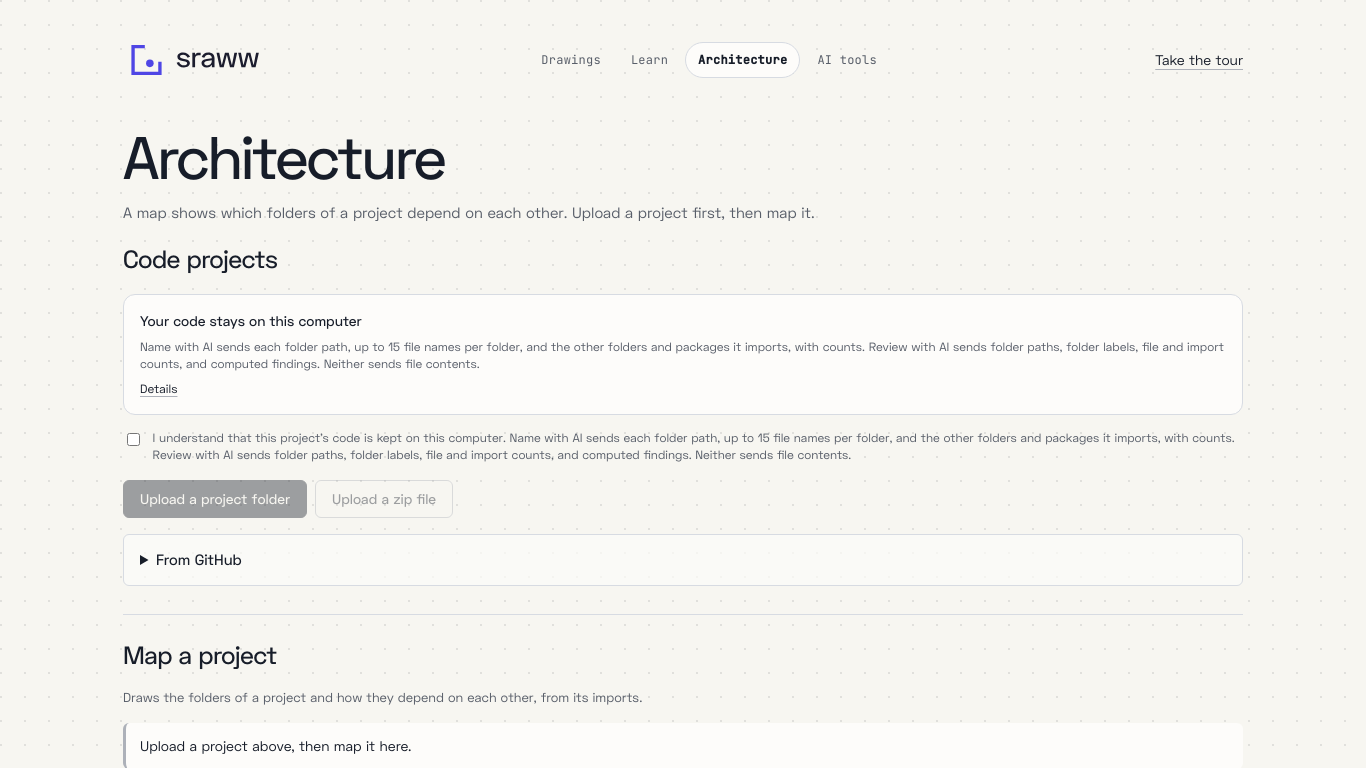
ArchitecturePage › enables the upload button only after the privacy notice is ticked
expect the button "Upload a project folder" is disabled: met, box [123,480,307,518]
Click the checkbox labelled "I understand": (134, 440) [127,433,140,446]
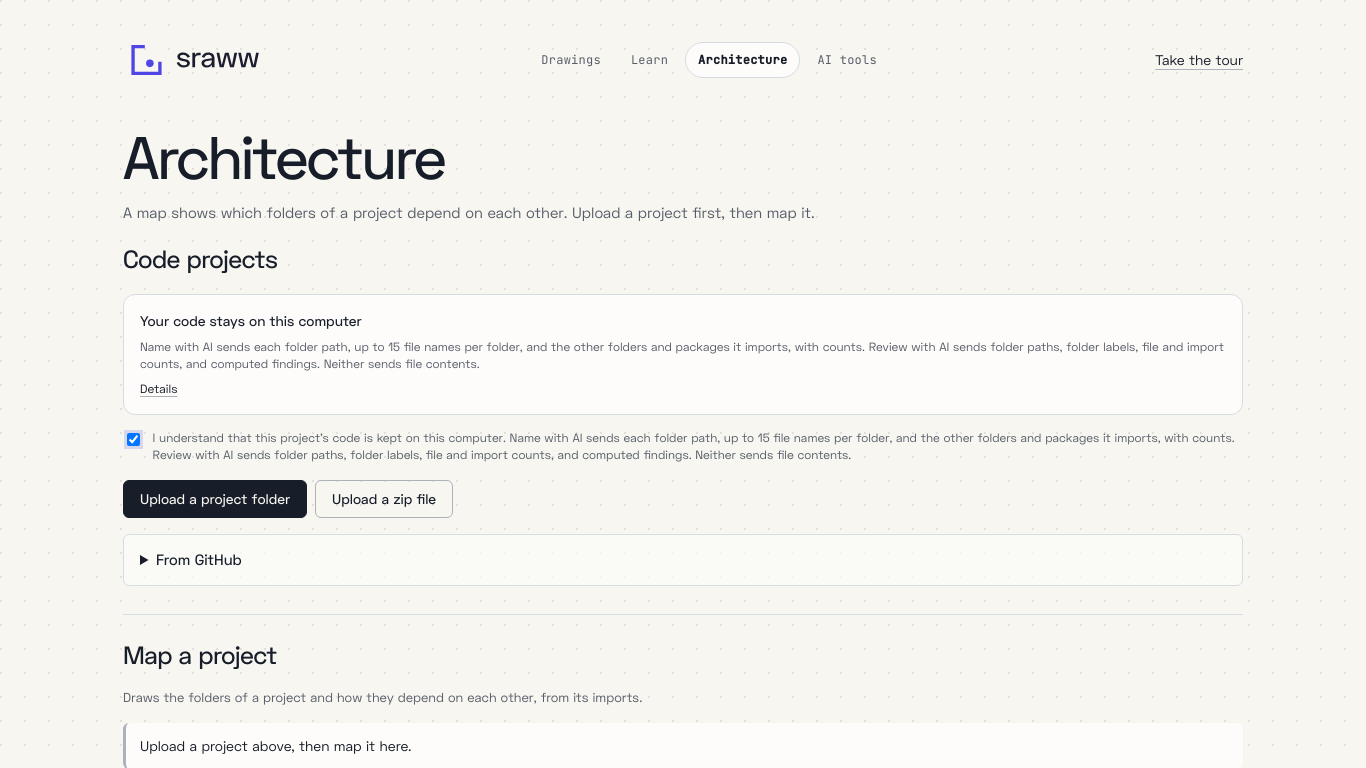
expect the button "Upload a project folder" is enabled: met, box [123,480,307,518]
